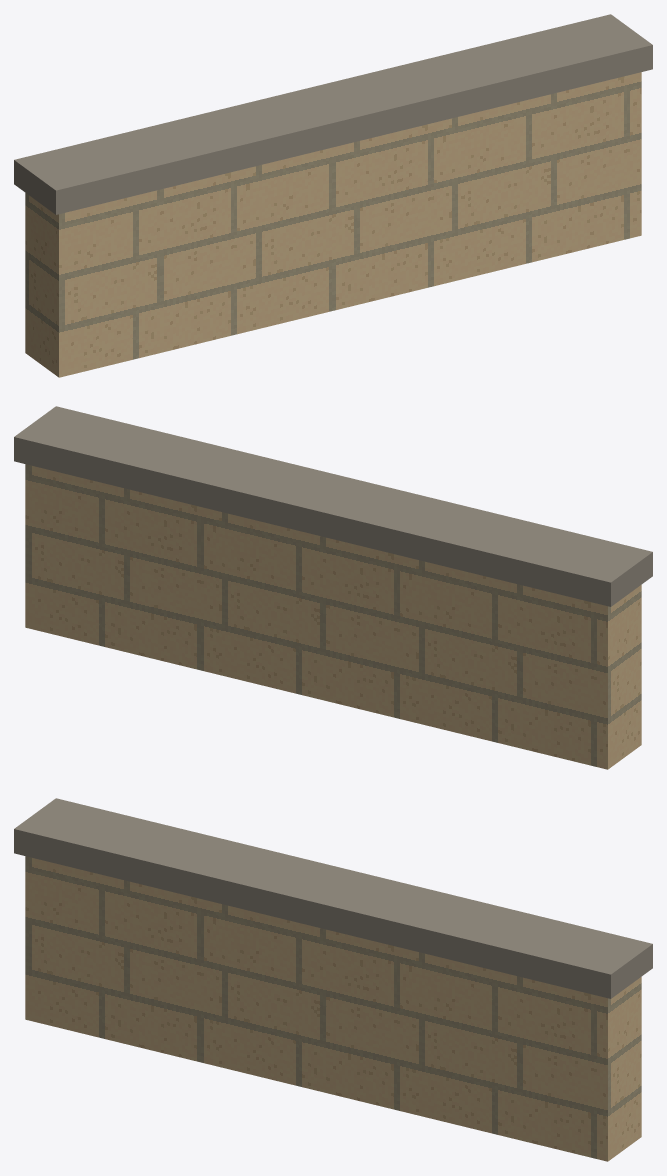
Rendered from cslow.obj.
The picture shows the model from 3 angles, top to bottom: view 1: azimuth 30°, elevation 25°; view 2: azimuth 150°, elevation 25°; view 3: azimuth 330°, elevation 25°; orthographic projection.
Visible parts, largest first — view 1: body, cap; view 2: body, cap; view 3: body, cap.
Boxes of the visible parts, x1,y1,x2,y2 form: body: (25,72,641,377); cap: (14,14,652,214); body: (25,464,641,769); cap: (14,406,652,606); body: (25,856,641,1161); cap: (14,798,652,998).
Bounding box in the file's own units: 4.1 × 1.26 × 0.5.
Materials: 2 (1 with a texture image).
